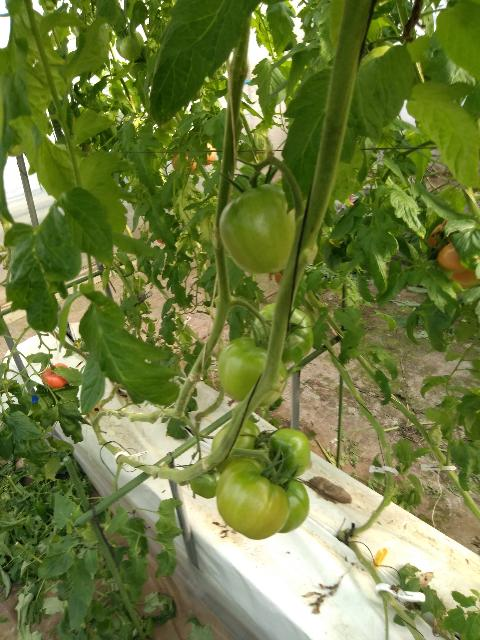b_green: (219, 181, 306, 275), (216, 456, 290, 540), (217, 335, 287, 407), (249, 301, 313, 365), (211, 419, 268, 474), (266, 428, 311, 477), (277, 474, 310, 534), (189, 466, 221, 499), (120, 36, 141, 61)
b_half_ripened: (41, 363, 70, 389)
